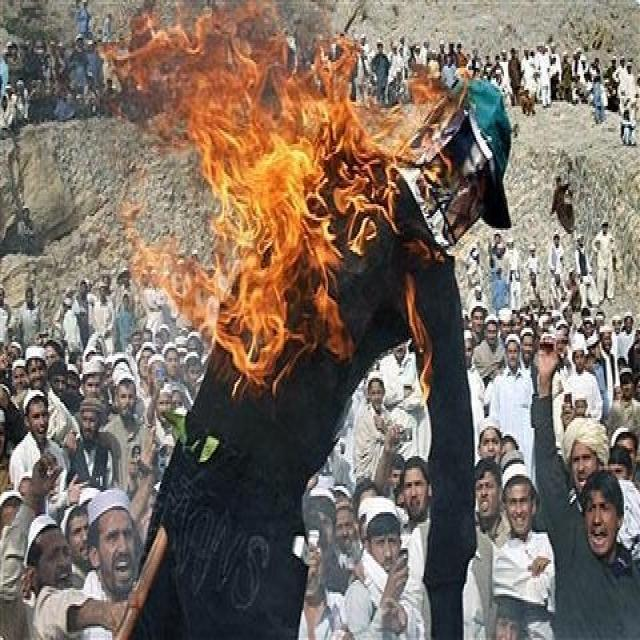Fire: (96, 2, 472, 406)
